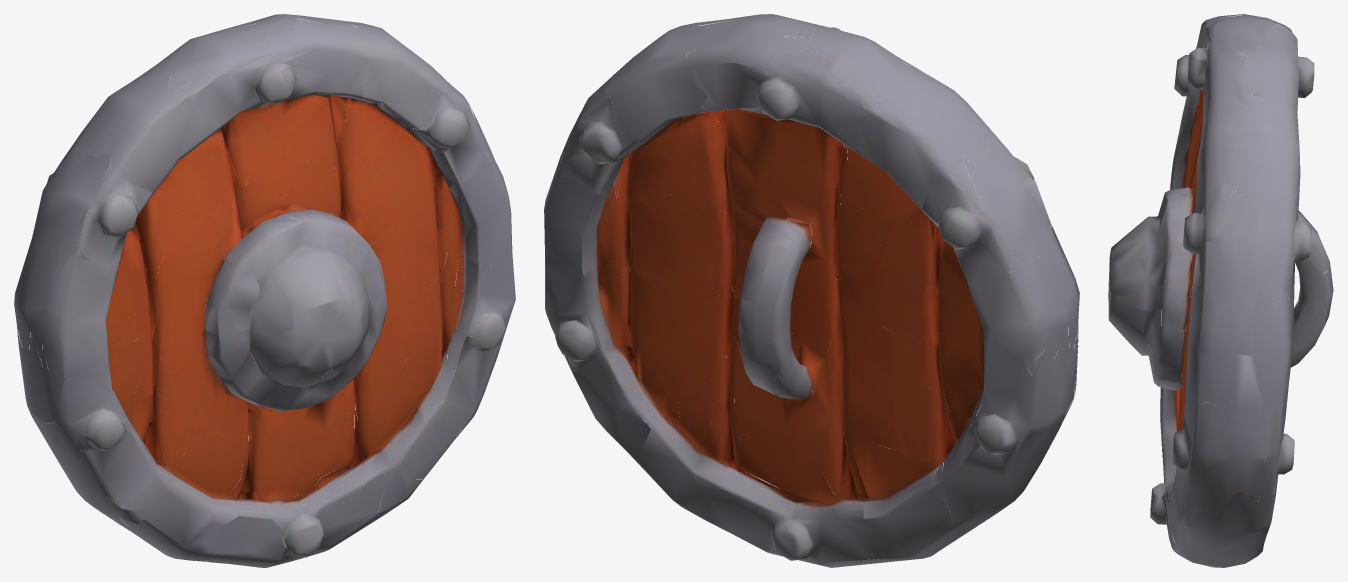
File: Arm_wood_shield-DJFdzQNl.glb
3 views of the same model, side by side, from view 1: azimuth 30°, elevation 25°; view 2: azimuth 150°, elevation 25°; view 3: azimuth 270°, elevation 25° (orthographic). The views are drawn at different scales.
Parts seen in each view (by area): view 1: Arm_wood_shield; view 2: Arm_wood_shield; view 3: Arm_wood_shield.
Part boxes in pixels (<box>): Arm_wood_shield: <box>14,14,515,567</box>; Arm_wood_shield: <box>544,14,1079,567</box>; Arm_wood_shield: <box>1108,14,1333,567</box>.
Bounding box in the file's own units: 0.7985 × 0.8203 × 0.3302.
Materials: 1 (1 with a texture image).
